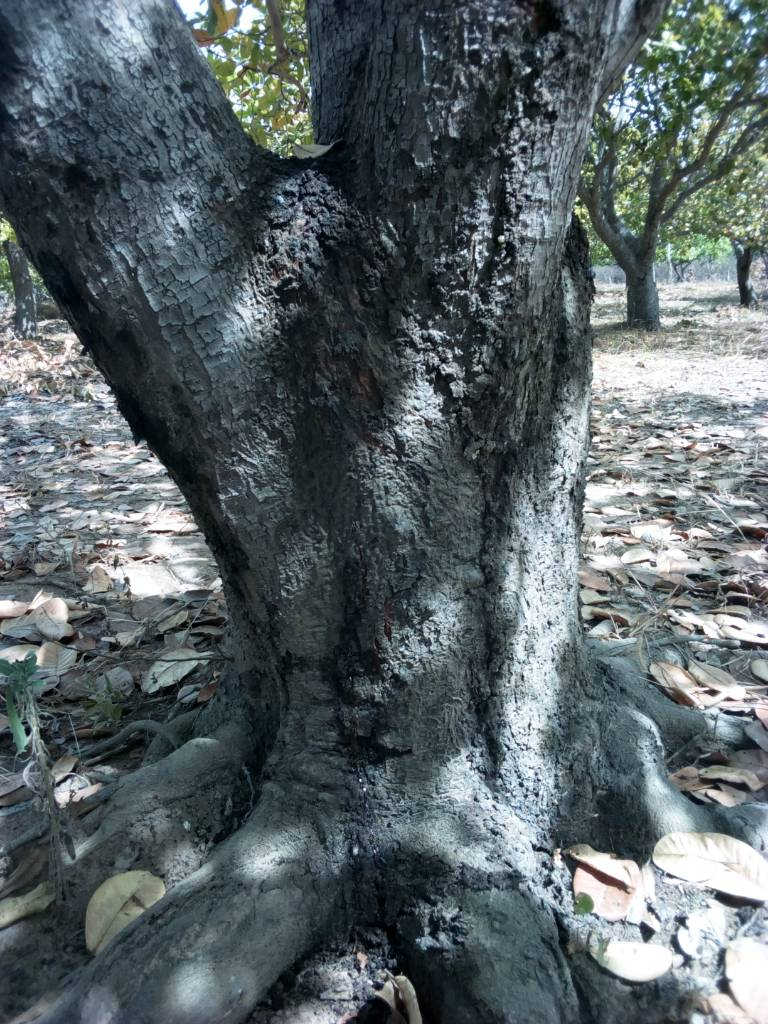Termites: (435, 44, 544, 778), (286, 177, 419, 764)
